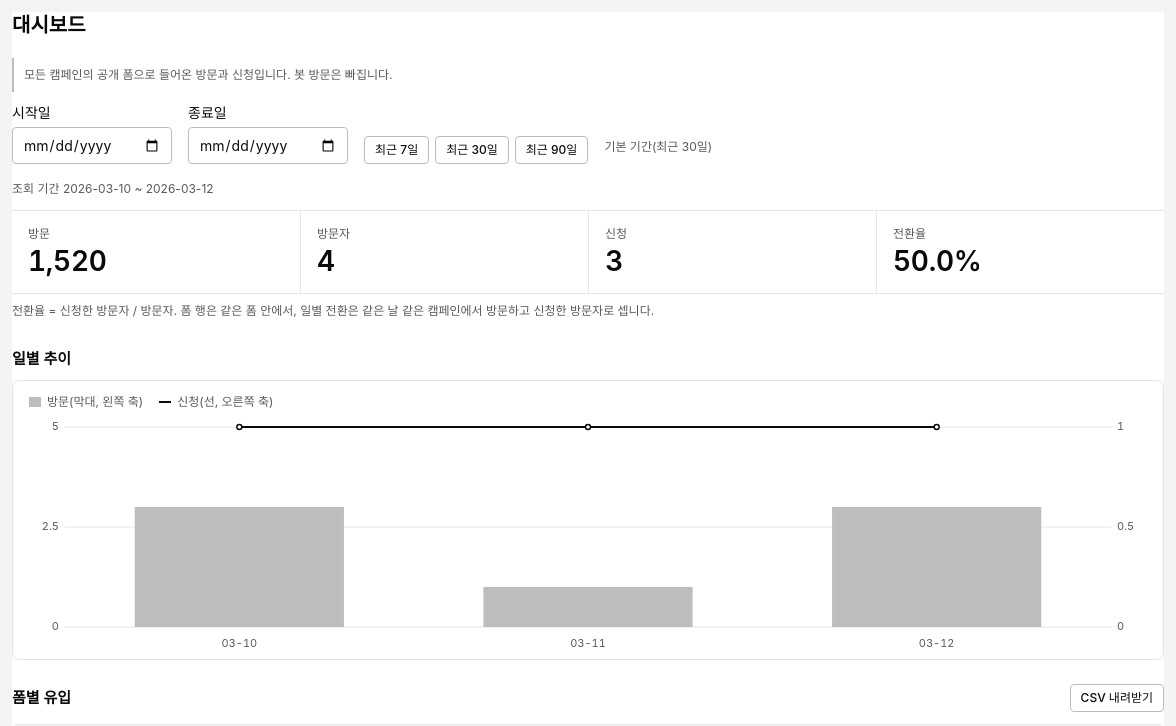
Test: 대시보드 › 빠른 기간 버튼은 서울 오늘까지의 기간을 URL과 요청에 넣는다
Click the button "최근 7일".
click(397, 150)  # box [364,136,429,164]
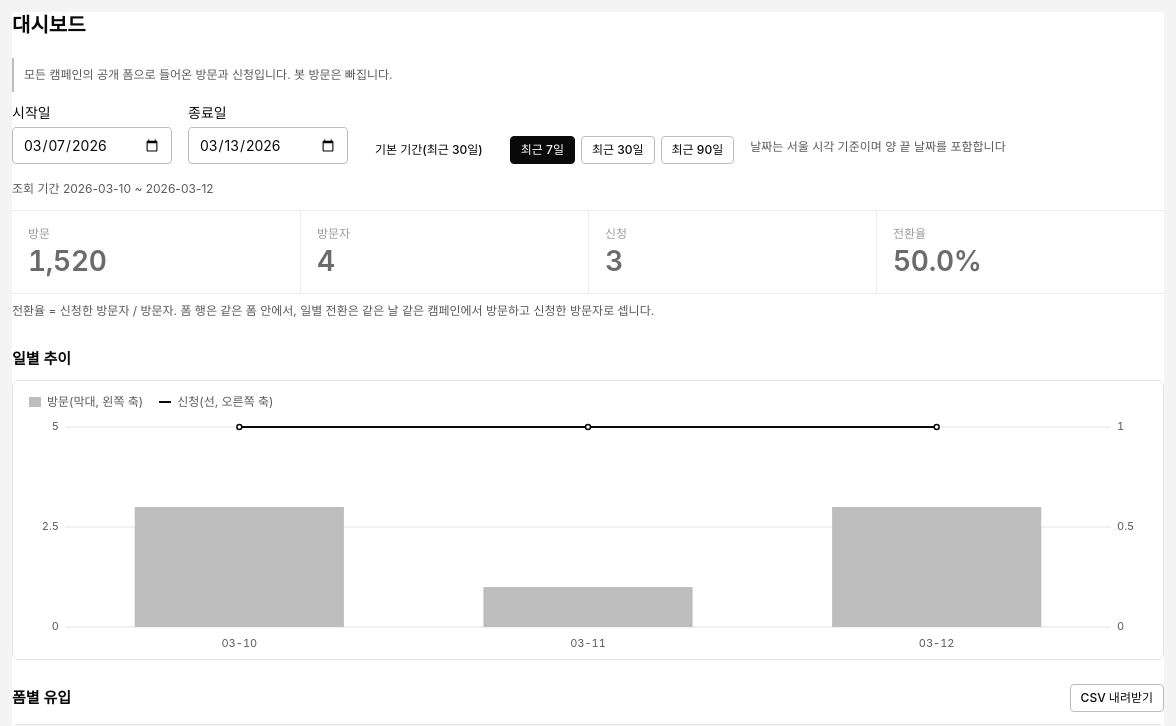
Check: the date field labelled "시작일" holds "2026-03-07", box [12,127,172,164]
Check: the date field labelled "종료일" holds "2026-03-13", box [188,127,348,164]
Click the button "최근 90일".
click(697, 150)  # box [661,136,734,164]
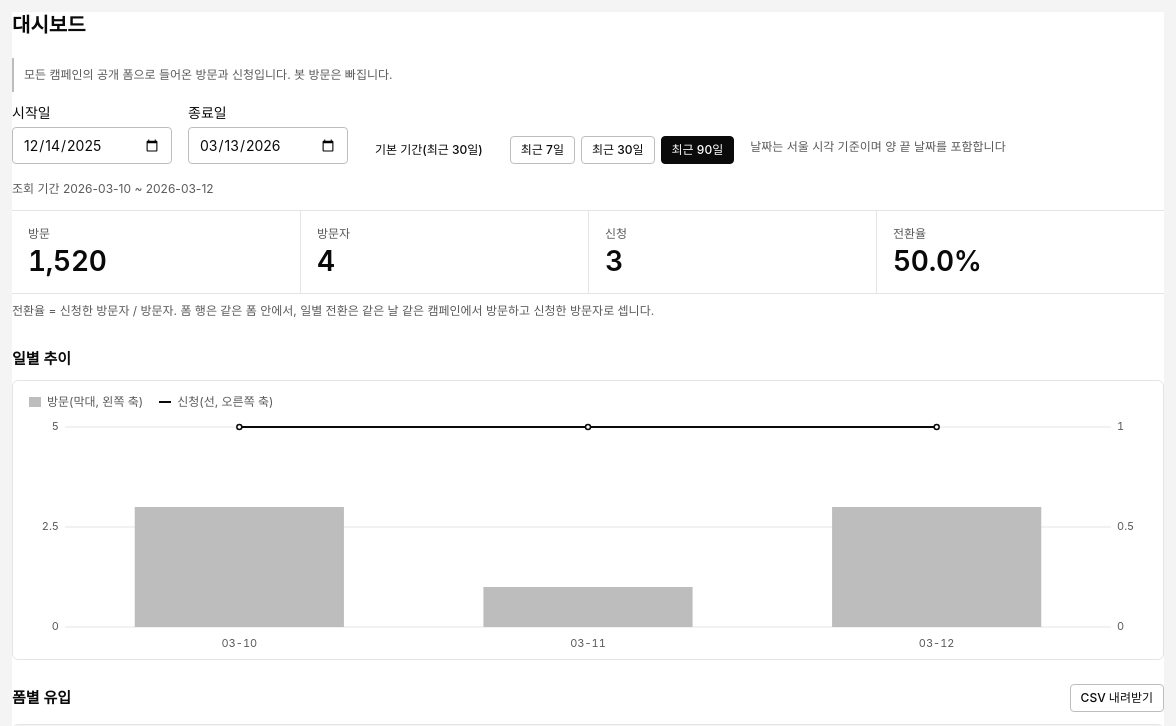
Check: the date field labelled "시작일" holds "2025-12-14", box [12,127,172,164]
